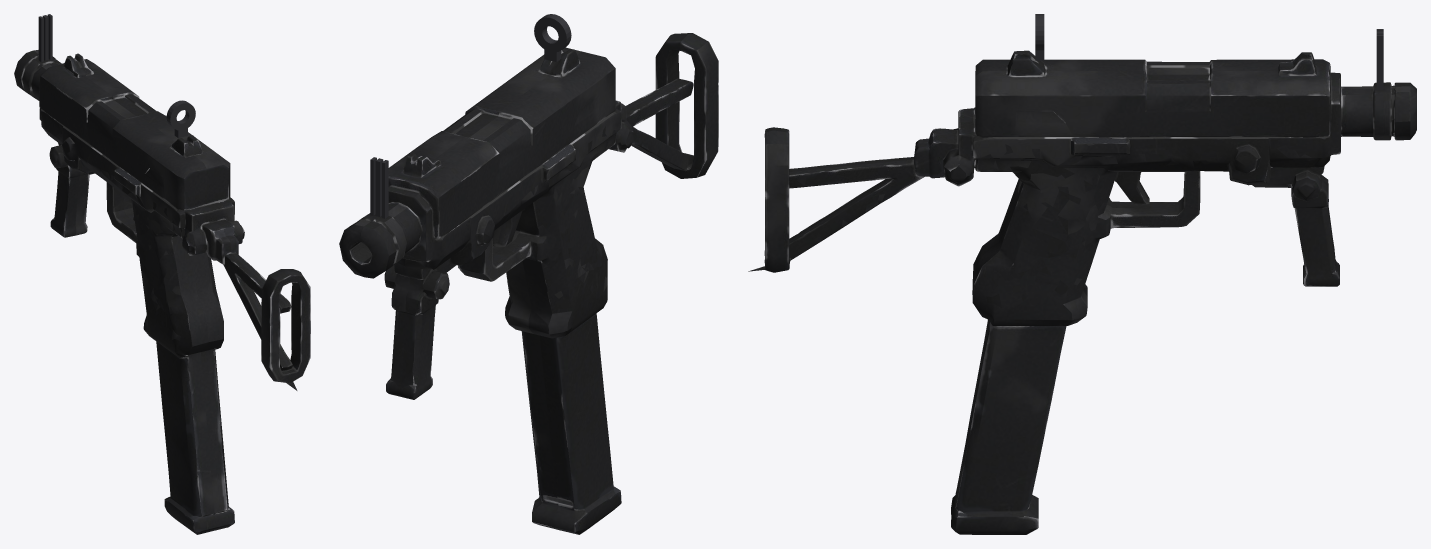
File: machine_pistol.glb
The picture shows the model from 3 angles, left to right: view 1: azimuth 30°, elevation 25°; view 2: azimuth 150°, elevation 25°; view 3: azimuth 270°, elevation 25°; orthographic projection. The views are drawn at different scales.
Parts seen in each view (by area): view 1: machine_pistol_world, rear_ring; view 2: machine_pistol_world, rear_ring; view 3: machine_pistol_world.
Part boxes in pixels (box(x1,y1,x2,y2)): machine_pistol_world: box(14, 50, 310, 534); rear_ring: box(166, 100, 195, 130); machine_pistol_world: box(339, 33, 718, 534); rear_ring: box(534, 14, 571, 52); machine_pistol_world: box(748, 50, 1416, 534).
Bounding box in the file's own units: 0.0632 × 0.3638 × 0.4331.
2 materials, 1 textured.
